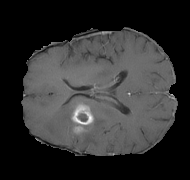Edema: (43, 97, 115, 147)
EnhancingTumors: (65, 99, 96, 139)
Necrosis: (73, 109, 83, 132)
